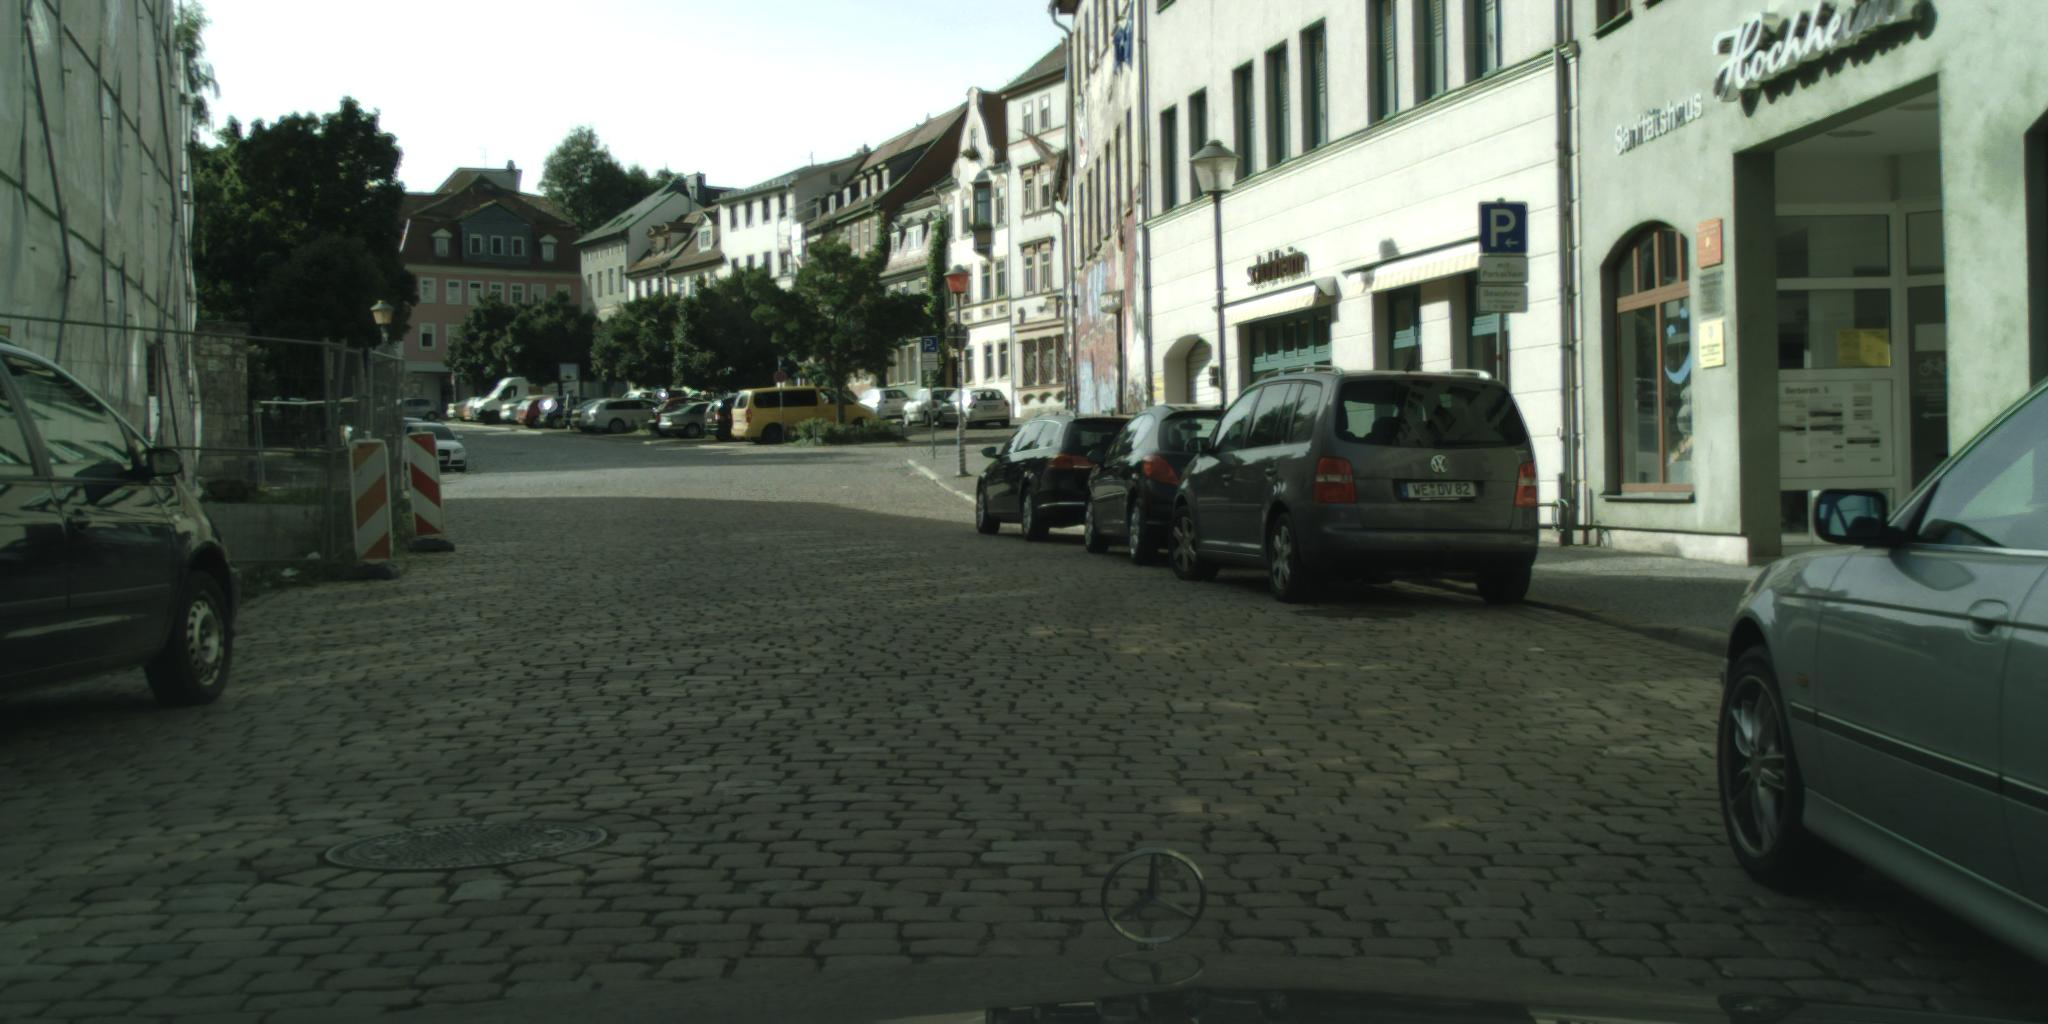car: (1718, 375, 2048, 972), (1, 330, 243, 708), (1169, 367, 1543, 610), (1080, 405, 1240, 566), (976, 415, 1149, 543), (731, 387, 882, 445), (475, 377, 580, 426), (396, 423, 468, 473), (579, 398, 670, 434), (939, 388, 1012, 431), (901, 388, 963, 428), (705, 396, 754, 444), (649, 398, 708, 438), (660, 401, 718, 440), (856, 388, 912, 422), (536, 397, 593, 428), (516, 396, 556, 428), (401, 398, 440, 428), (649, 389, 690, 411), (500, 398, 532, 426), (375, 418, 426, 432), (447, 400, 472, 423), (614, 392, 658, 405), (844, 391, 861, 409)
